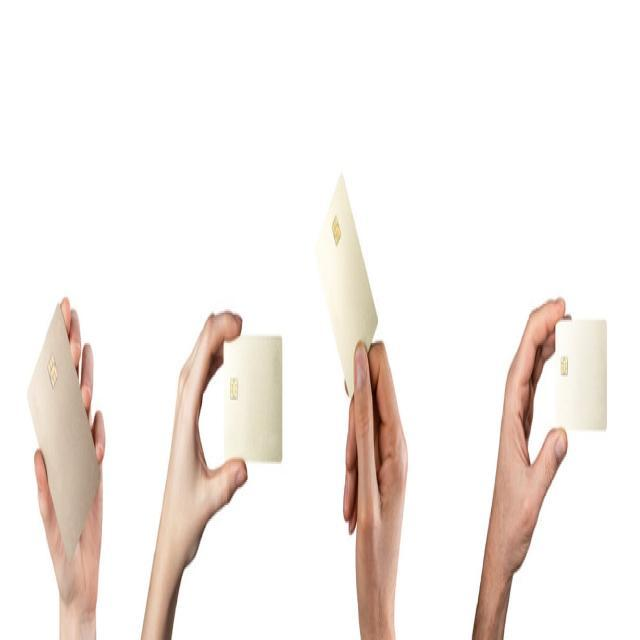payment_card: (25, 297, 100, 559), (314, 171, 379, 398)
